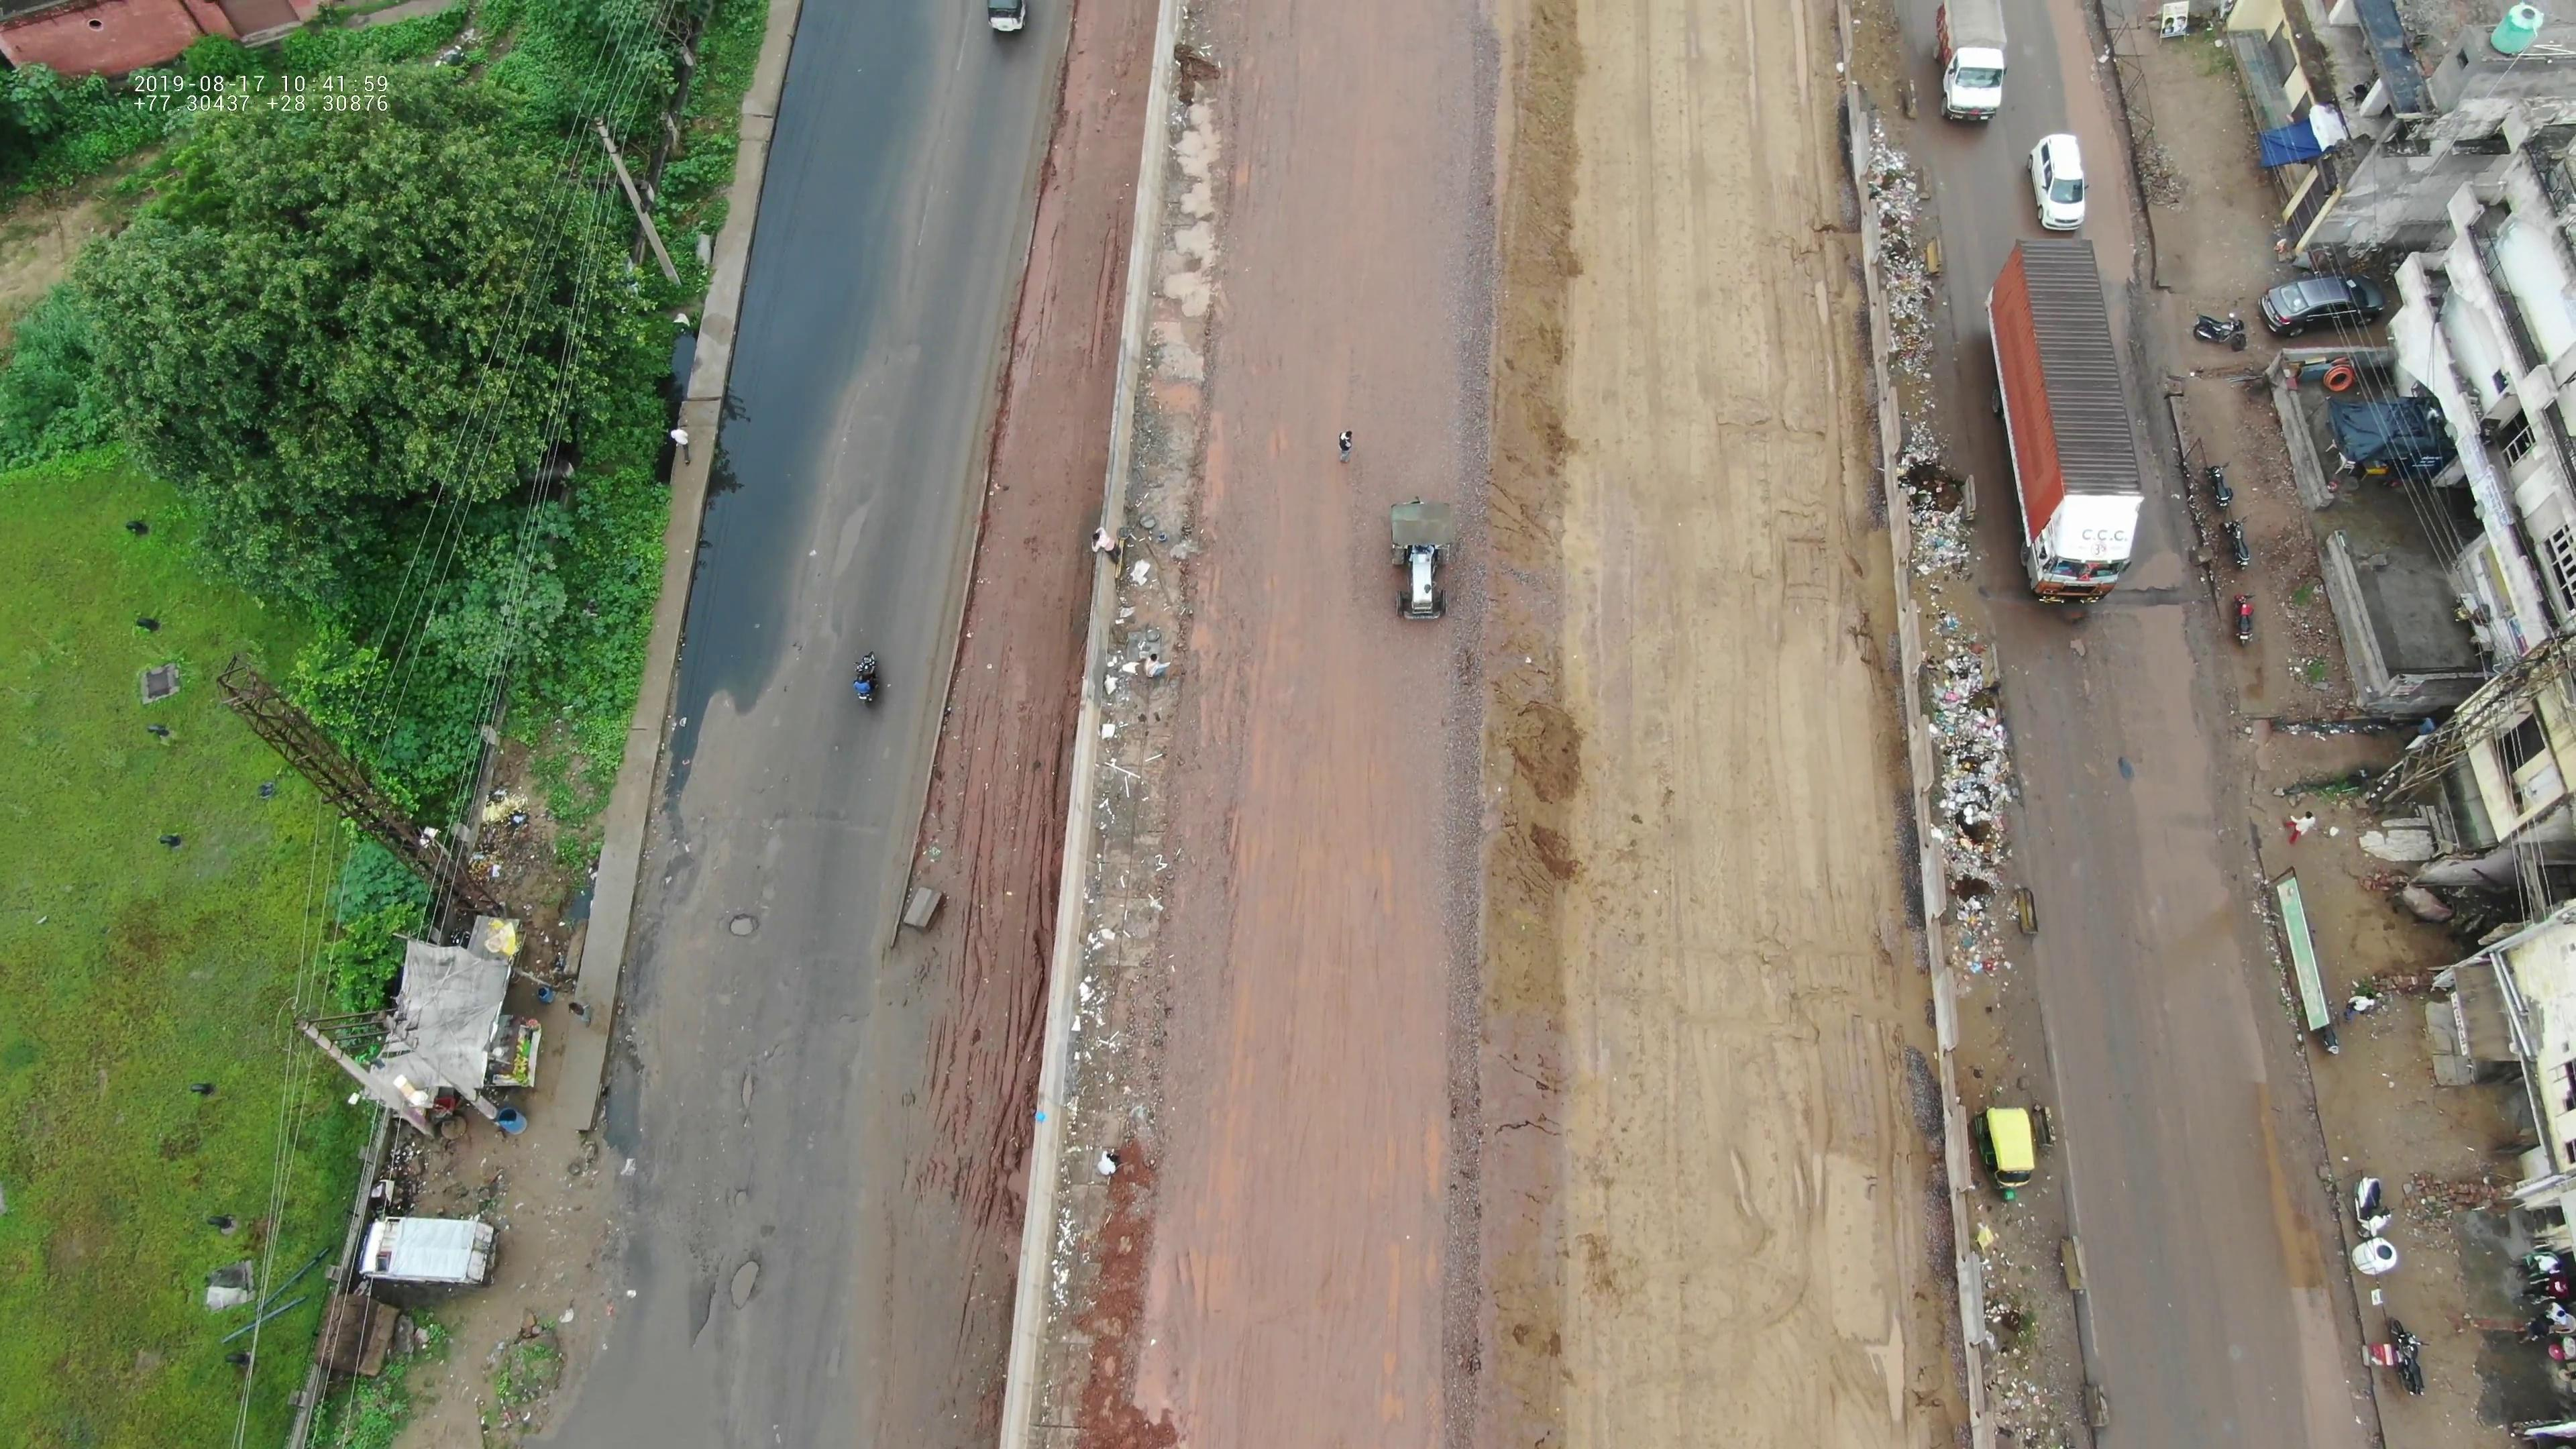Potholes: (805, 472, 888, 648), (711, 1021, 755, 1302), (713, 879, 763, 1003), (2052, 633, 2097, 771)
Road_side_garbage: (1851, 133, 1953, 370), (1930, 683, 2020, 901), (1898, 380, 1980, 609)
